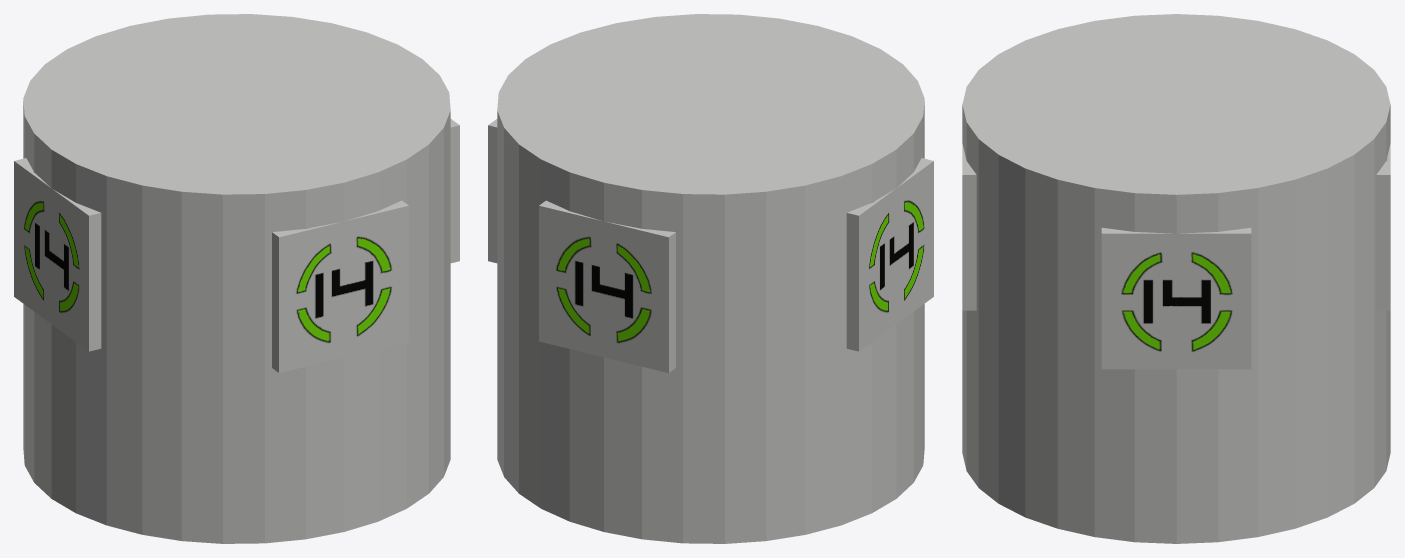
Rendered from tour14.dae.
The picture shows the model from 3 angles, left to right: view 1: azimuth 30°, elevation 25°; view 2: azimuth 150°, elevation 25°; view 3: azimuth 270°, elevation 25°; orthographic projection.
Visible parts, largest first — view 1: Cylinder, Cube, Cube.003, Cube.002; view 2: Cylinder, Cube.001, Cube.003, Cube.002; view 3: Cylinder, Cube.002, Cube.001, Cube.
Boxes of the visible parts, x1,y1,x2,y2 form: Cylinder: [23, 14, 450, 543]; Cube: [272, 200, 408, 372]; Cube.003: [14, 158, 101, 351]; Cube.002: [450, 119, 459, 263]; Cylinder: [497, 14, 924, 543]; Cube.001: [539, 200, 675, 372]; Cube.003: [846, 158, 933, 351]; Cube.002: [488, 119, 497, 263]; Cylinder: [962, 14, 1390, 543]; Cube.002: [1101, 227, 1251, 369]; Cube.001: [1376, 143, 1390, 310]; Cube: [962, 143, 976, 310].
Bounding box in the file's own units: 4 × 4 × 3.6.
2 materials, 2 textured.
